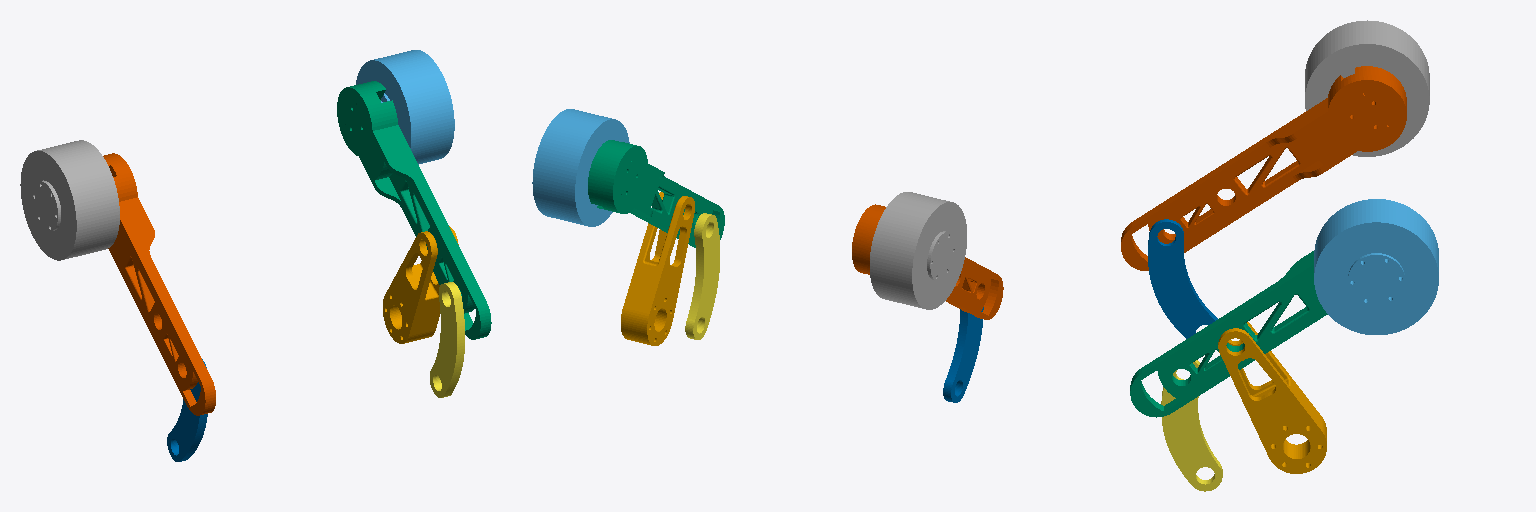
URDF robot description (robot):
<?xml version='1.0' encoding='utf-8'?>
<robot name="robot">
    <link name="link1_left">
        <inertial>
            <origin xyz="-0.014379452723132999 0.013146509225910563 -0.01000000301637849" rpy="5.577979250298453e-48 -4.3790577010150533e-47 0.0" />
            <mass value="0.03417005382568805" />
            <inertia ixx="1.1348905405023962e-05" iyy="1.2733541468697158e-05" izz="2.1478197131673954e-05" ixy="7.711557174032265e-06" iyz="-3.309466308988608e-12" ixz="9.219346207585323e-12" />
        </inertial>
        <visual name="link1_left_visual">
            <origin xyz="0.1464348158331758 -0.04458091389119579 -0.017000001338618898" rpy="0.4647279244295583 -1.570796326794894 0" />
            <geometry>
                <mesh filename="meshes/link1_left.stl" scale="0.001 0.001 0.001" />
            </geometry>
        </visual>
        <collision name="link1_left_collision">
            <origin xyz="0.1464348158331758 -0.04458091389119579 -0.017000001338618898" rpy="0.4647279244295583 -1.570796326794894 0" />
            <geometry>
                <mesh filename="meshes/link1_left.stl" scale="0.001 0.001 0.001" />
            </geometry>
        </collision>
    </link>
    <link name="wheel_left">
        <inertial>
            <origin xyz="4.738654364757622e-06 5.323015998452973e-06 0.025740395003722032" rpy="2.6000655099776874e-47 -0.0 0.0" />
            <mass value="1.0657044593105744" />
            <inertia ixx="0.00043627410905851976" iyy="0.0004362743451451492" izz="0.000667602333702999" ixy="9.979216897512214e-10" iyz="1.3550727966429292e-07" ixz="1.2042301512947883e-07" />
        </inertial>
        <visual name="wheel_left_visual">
            <origin xyz="0.26853242519593606 -0.10542868984015215 0.04200000133861904" rpy="-1.5707963267948961 -2.0213875041798114e-15 -2.035524251224456" />
            <geometry>
                <mesh filename="meshes/wheel_left.stl" scale="0.001 0.001 0.001" />
            </geometry>
        </visual>
        <collision name="wheel_left_collision">
            <origin xyz="0.26853242519593606 -0.10542868984015215 0.04200000133861904" rpy="-1.5707963267948961 -2.0213875041798114e-15 -2.035524251224456" />
            <geometry>
                <mesh filename="meshes/wheel_left.stl" scale="0.001 0.001 0.001" />
            </geometry>
        </collision>
    </link>
    <link name="link2_left">
        <inertial>
            <origin xyz="-0.040734341938196084 0.036199919889198746 -0.007876490216987832" rpy="-1.3684555315672037e-47 -4.3790577010150533e-47 -1.9446922743316068e-62" />
            <mass value="0.06493550656605088" />
            <inertia ixx="8.216483753747215e-05" iyy="0.00010173549128733589" izz="0.00018014507365143873" ixy="8.233072369991277e-05" iyz="5.942996743918916e-06" ixz="-6.68742034970824e-06" />
        </inertial>
        <visual name="link2_left_visual">
            <origin xyz="0.22590593772808887 0.023276113003309683 0.0020000013386189688" rpy="2.035524251224455 1.5707963267948934 0" />
            <geometry>
                <mesh filename="meshes/link2_left.stl" scale="0.001 0.001 0.001" />
            </geometry>
        </visual>
        <collision name="link2_left_collision">
            <origin xyz="0.22590593772808887 0.023276113003309683 0.0020000013386189688" rpy="2.035524251224455 1.5707963267948934 0" />
            <geometry>
                <mesh filename="meshes/link2_left.stl" scale="0.001 0.001 0.001" />
            </geometry>
        </collision>
    </link>
    <link name="link3_left">
        <inertial>
            <origin xyz="-0.027788119426268024 -0.017625221358577116 0.003000001338619196" rpy="5.570048597538004e-48 -0.0 0.0" />
            <mass value="0.009709743586677392" />
            <inertia ixx="1.1500878757267703e-06" iyy="3.96523881853947e-06" izz="5.0570682327538e-06" ixy="-1.516942730062435e-06" iyz="5.4084225458247903e-20" ixz="-1.974378187114847e-22" />
        </inertial>
        <visual name="link3_left_visual">
            <origin xyz="0.12852307472216454 0.1372918489408812 0.006000001338618492" rpy="0.8975882118879118 1.570796326794892 0" />
            <geometry>
                <mesh filename="meshes/link3_left.stl" scale="0.001 0.001 0.001" />
            </geometry>
        </visual>
        <collision name="link3_left_collision">
            <origin xyz="0.12852307472216454 0.1372918489408812 0.006000001338618492" rpy="0.8975882118879118 1.570796326794892 0" />
            <geometry>
                <mesh filename="meshes/link3_left.stl" scale="0.001 0.001 0.001" />
            </geometry>
        </collision>
    </link>
    <link name="link3_right">
        <inertial>
            <origin xyz="-0.024382239791745947 0.02209828873107604 0.002999998661380783" rpy="5.517985792018255e-48 -0.0 0.0" />
            <mass value="0.009709743586677332" />
            <inertia ixx="1.7405780552715855e-06" iyy="3.37474863899845e-06" izz="5.057068232746861e-06" ixy="1.9012510564936366e-06" iyz="2.440008212144282e-19" ixz="1.0866816112595644e-19" />
        </inertial>
        <visual name="link3_right_visual">
            <origin xyz="0.10388861000558393 -0.1569039119529824 0.005999998661380825" rpy="2.4150653413610845 1.5707963267948952 0" />
            <geometry>
                <mesh filename="meshes/link3_right.stl" scale="0.001 0.001 0.001" />
            </geometry>
        </visual>
        <collision name="link3_right_collision">
            <origin xyz="0.10388861000558393 -0.1569039119529824 0.005999998661380825" rpy="2.4150653413610845 1.5707963267948952 0" />
            <geometry>
                <mesh filename="meshes/link3_right.stl" scale="0.001 0.001 0.001" />
            </geometry>
        </collision>
    </link>
    <link name="link2_right">
        <inertial>
            <origin xyz="-0.040734339839755336 -0.036199913961065595 -0.00787649289422614" rpy="5.84494672662229e-49 -0.0 0.0" />
            <mass value="0.06493550656605089" />
            <inertia ixx="8.216483753746128e-05" iyy="0.00010173549128732196" izz="0.0001801450736521465" ixy="-8.233072369989367e-05" iyz="-5.9429967439174504e-06" ixz="-6.687420349707427e-06" />
        </inertial>
        <visual name="link2_right_visual">
            <origin xyz="0.2263017520441828 -0.02401276437754792 0.0019999986613810526" rpy="1.1060684023653404 1.5707963267948957 0" />
            <geometry>
                <mesh filename="meshes/link2_right.stl" scale="0.001 0.001 0.001" />
            </geometry>
        </visual>
        <collision name="link2_right_collision">
            <origin xyz="0.2263017520441828 -0.02401276437754792 0.0019999986613810526" rpy="1.1060684023653404 1.5707963267948957 0" />
            <geometry>
                <mesh filename="meshes/link2_right.stl" scale="0.001 0.001 0.001" />
            </geometry>
        </collision>
    </link>
    <link name="link1_right">
        <inertial>
            <origin xyz="-0.013178940535252082 -0.014349734654855659 -0.010000000339140343" rpy="5.4738221262688155e-48 -0.0 0.0" />
            <mass value="0.03417005382568801" />
            <inertia ixx="1.2698521227592784e-05" iyy="1.1383926229180389e-05" izz="2.147819771474574e-05" ixy="-7.714621282127122e-06" iyz="4.105565605365403e-12" ixz="8.90658293645208e-12" />
        </inertial>
        <visual name="link1_right_visual">
            <origin xyz="0.14217976705213617 0.05726414652427831 -0.016999998661381143" rpy="2.764131191759951 -1.5707963267948946 0" />
            <geometry>
                <mesh filename="meshes/·link1_right.stl" scale="0.001 0.001 0.001" />
            </geometry>
        </visual>
        <collision name="link1_right_collision">
            <origin xyz="0.14217976705213617 0.05726414652427831 -0.016999998661381143" rpy="2.764131191759951 -1.5707963267948946 0" />
            <geometry>
                <mesh filename="meshes/link1_right.stl" scale="0.001 0.001 0.001" />
            </geometry>
        </collision>
    </link>
    <link name="wheel_right">
        <inertial>
            <origin xyz="4.730752889940959e-06 5.327087956459309e-06 -0.02574039232648387" rpy="0.0 -0.0 0.0" />
            <mass value="1.065704459310575" />
            <inertia ixx="0.00043627410905817975" iyy="0.000436274345144372" izz="0.0006676023337167658" ixy="9.979213289046389e-10" iyz="-1.355072783183753e-07" ixz="-1.204230139356666e-07" />
        </inertial>
        <visual name="wheel_right_visual">
            <origin xyz="0.2689282295120303 -0.1046920284659084 -0.041999998661381176" rpy="1.5707963267948954 -1.9823277512250683e-15 -2.035524251224453" />
            <geometry>
                <mesh filename="meshes/wheel_right.stl" scale="0.001 0.001 0.001" />
            </geometry>
        </visual>
        <collision name="wheel_right_collision">
            <origin xyz="0.2689282295120303 -0.1046920284659084 -0.041999998661381176" rpy="1.5707963267948954 -1.9823277512250683e-15 -2.035524251224453" />
            <geometry>
                <mesh filename="meshes/wheel_right.stl" scale="0.001 0.001 0.001" />
            </geometry>
        </collision>
    </link>
    <link name="base_link">
        <inertial>
            <origin xyz="0.0005337578146901492 -0.02754763114193436 0.12046067262196919" rpy="0.0 0.0 0.0" />
            <mass value="1.01513467298573" />
            <inertia ixx="0.0022603350507803786" iyy="0.0033249257170818195" izz="0.003729184721637846" ixy="-2.427637308668567e-06" iyz="0.00039958667392106886" ixz="-6.28854635278085e-05" />
        </inertial>
        <visual name="base_link_visual">
            <origin xyz="0.0 0.0 0.0" rpy="0.0 0.0 0.0" />
            <geometry>
                <mesh filename="meshes/base_link.stl" scale="0.001 0.001 0.001" />
            </geometry>
        </visual>
        <collision name="base_link_collision">
            <origin xyz="0.0 0.0 0.0" rpy="0.0 0.0 0.0" />
            <geometry>
                <mesh filename="meshes/base_link.stl" scale="0.001 0.001 0.001" />
            </geometry>
        </collision>
    </link>
    <joint name="base_link_r1" type="continuous">
        <origin xyz="0.09399999866138112 -0.03310005826053541 0.11531390765028349" rpy="1.5707963267949006 1.337392550426723 -1.5707963267948941" />
        <parent link="base_link" />
        <child link="link1_left" />
        <axis xyz="1.9721522630525295e-31 1.3520367697327603e-16 -1.0" />
    </joint>
    <joint name="base_link_r2" type="continuous">
        <origin xyz="0.09399999866138105 -0.08580476603295473 0.0902492741262924" rpy="-1.5707963267948926 1.337392550426723 -1.5707963267948941" />
        <parent link="base_link" />
        <child link="link3_left" />
        <axis xyz="-1.9721522630525295e-31 1.2490910111972552e-16 -1.0" />
    </joint>
    <joint name="link2_left_r3" type="continuous">
        <origin xyz="-0.07412635999999992 0.06587483999999993 -0.007999999999999972" rpy="-4.805033435734922e-16 7.1490519535654195e-31 3.604961586442086e-46" />
        <parent link="link2_left" />
        <child link="wheel_left" />
        <axis xyz="-4.683861624749758e-31 -9.847606366883094e-16 1.0" />
    </joint>
    <joint name="base_link_r4" type="continuous">
        <origin xyz="-0.09400000133861912 -0.08580476603295445 0.0902492741262921" rpy="1.570796326794901 1.337392550426723 -1.5707963267948941" />
        <parent link="base_link" />
        <child link="link3_right" />
        <axis xyz="1.9721522630525295e-31 5.732771573304916e-17 -1.0" />
    </joint>
    <joint name="base_link_r5" type="continuous">
        <origin xyz="-0.09050000133861906 -0.033100058260535054 0.11531390765028335" rpy="-1.5707963267948926 1.337392550426723 -1.5707963267948941" />
        <parent link="base_link" />
        <child link="link1_right" />
        <axis xyz="-1.9721522630525295e-31 1.9721522630525295e-31 -1.0" />
    </joint>
    <joint name="link1_right_r6" type="continuous">
        <origin xyz="-0.04904063999999977 -0.053397240000000006 -0.015" rpy="3.141592653589793 1.9721522630525295e-31 2.775557561562892e-17" />
        <parent link="link1_right" />
        <child link="link2_right" />
        <axis xyz="0.0 1.8967936579340213e-16 -1.0" />
    </joint>
    <joint name="link2_right_r7" type="continuous">
        <origin xyz="-0.07412635000000009 -0.06587483000000002 -0.008000000000000007" rpy="-3.141592653589793 -3.0635215941788595e-31 5.551115123125783e-17" />
        <parent link="link2_right" />
        <child link="wheel_right" />
        <axis xyz="2.9582283945787943e-31 1.9721522630525295e-31 -1.0" />
    </joint>
    <joint name="link1_left_r8" type="continuous">
        <origin xyz="-0.053507899999999754 0.04891987999999998 -0.014999999999999982" rpy="3.1415926535897927 4.555115069657039e-32 2.7755575615628907e-17" />
        <parent link="link1_left" />
        <child link="link2_left" />
        <axis xyz="2.465190328815662e-31 -5.042572931148172e-16 1.0" />
    </joint>
</robot>

--- What the picture shows (computed from the rendered views, not written in the file) ---
3 views of the same robot in one strip: view 1: azimuth 30°, elevation 25°; view 2: azimuth 150°, elevation 25°; view 3: azimuth 270°, elevation 25° (orthographic).
Robot: robot — 9 links, 8 joints (8 continuous); root link base_link; default pose: every joint at zero.
Links seen in each view (by area): view 1: link2_left, wheel_right, link2_right, wheel_left, link1_left, link3_left, link3_right; view 2: wheel_right, wheel_left, link2_left, link1_left, link2_right, link3_left, link3_right; view 3: link2_right, wheel_left, link2_left, wheel_right, link1_left, link3_right, link3_left.
Link boxes in pixels (left/top/right/bottom): link2_left: left=337, top=81, right=491, bottom=339; wheel_right: left=20, top=140, right=119, bottom=260; link2_right: left=103, top=153, right=215, bottom=415; wheel_left: left=356, top=50, right=454, bottom=164; link1_left: left=383, top=226, right=458, bottom=343; link3_left: left=430, top=282, right=464, bottom=397; link3_right: left=167, top=359, right=207, bottom=461; wheel_right: left=870, top=192, right=966, bottom=309; wheel_left: left=532, top=109, right=629, bottom=226; link2_left: left=588, top=140, right=724, bottom=247; link1_left: left=621, top=192, right=694, bottom=345; link2_right: left=852, top=204, right=1003, bottom=319; link3_left: left=685, top=213, right=719, bottom=339; link3_right: left=943, top=307, right=983, bottom=402; link2_right: left=1121, top=66, right=1406, bottom=270; wheel_left: left=1314, top=199, right=1438, bottom=334; link2_left: left=1130, top=251, right=1327, bottom=417; wheel_right: left=1305, top=20, right=1429, bottom=156; link1_left: left=1218, top=322, right=1326, bottom=473; link3_right: left=1148, top=219, right=1217, bottom=338; link3_left: left=1161, top=360, right=1222, bottom=491.
Size in the robot's own frame: 0.2875 by 0.1834 by 0.1913 metres.
Meshes: 9 distinct files referenced, 7 mesh visuals loaded (7 binary STL); not drawn: 2 (reference not matched to a file when rendering).
